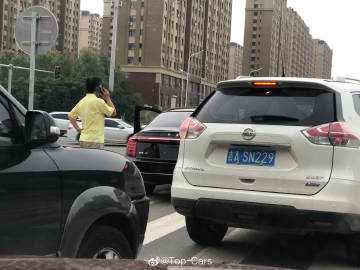other: (172, 69, 360, 256), (125, 101, 196, 192)
